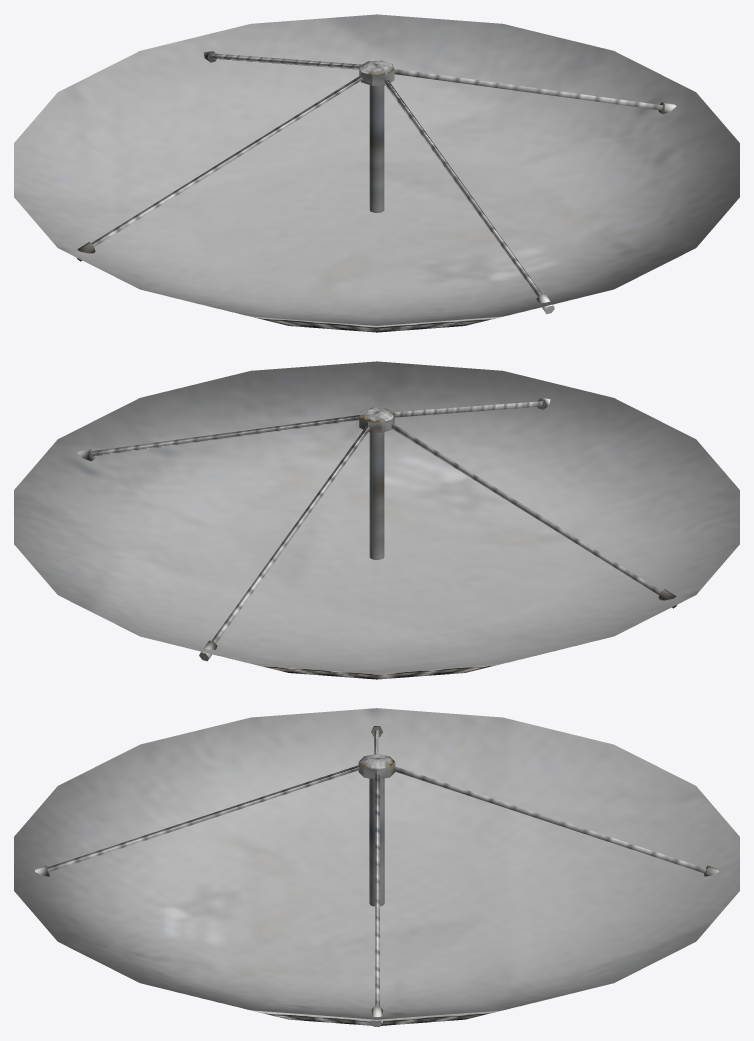
Rendered from dish.DAE.
3 renders of one model, top to bottom at view 1: azimuth 30°, elevation 25°; view 2: azimuth 150°, elevation 25°; view 3: azimuth 270°, elevation 25°, orthographic.
Parts seen in each view (by area): view 1: Cylinder02; view 2: Cylinder02; view 3: Cylinder02.
Part boxes in pixels (x1,y1,x2,y2): Cylinder02: [14, 14, 739, 332]; Cylinder02: [14, 361, 739, 679]; Cylinder02: [14, 708, 739, 1026].
Size of what is drawn, in the model's own units: 0.9606 by 0.2466 by 0.946.
